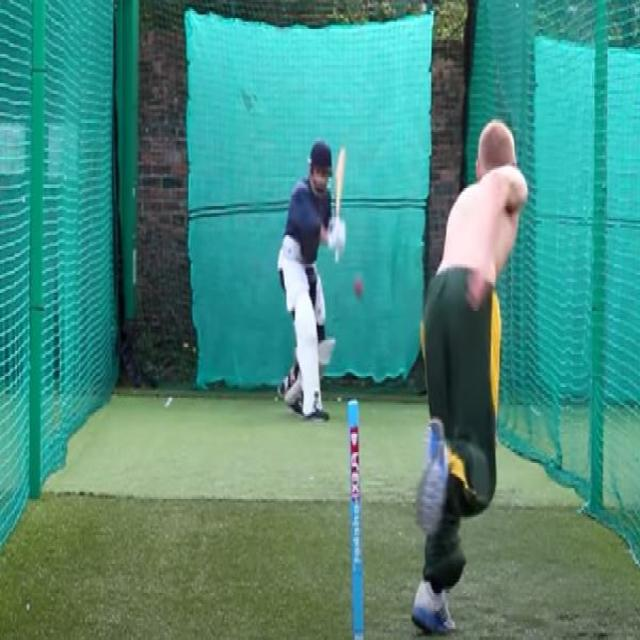ball: (348, 273, 364, 307)
